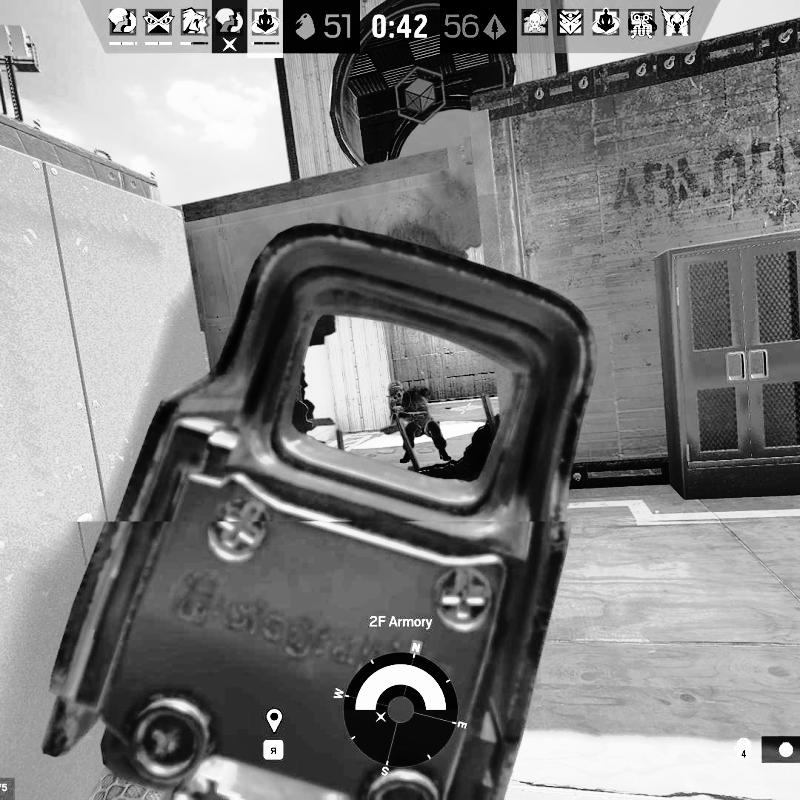Character: (380, 379, 453, 463)
Head: (387, 380, 406, 406)
